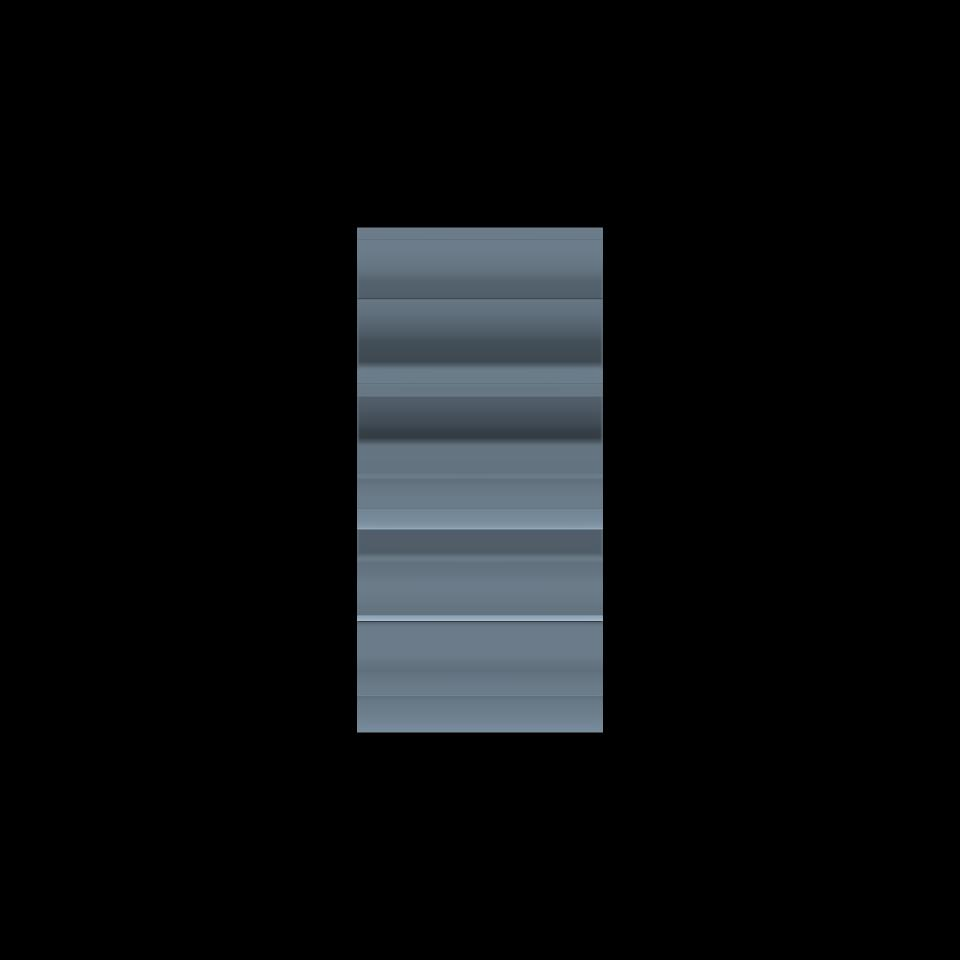Straight: (357, 226, 603, 730)
